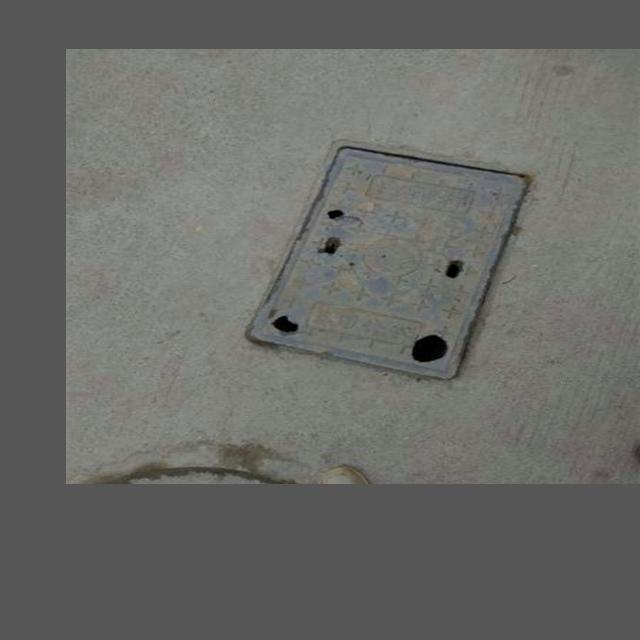broke: (240, 139, 542, 382)
